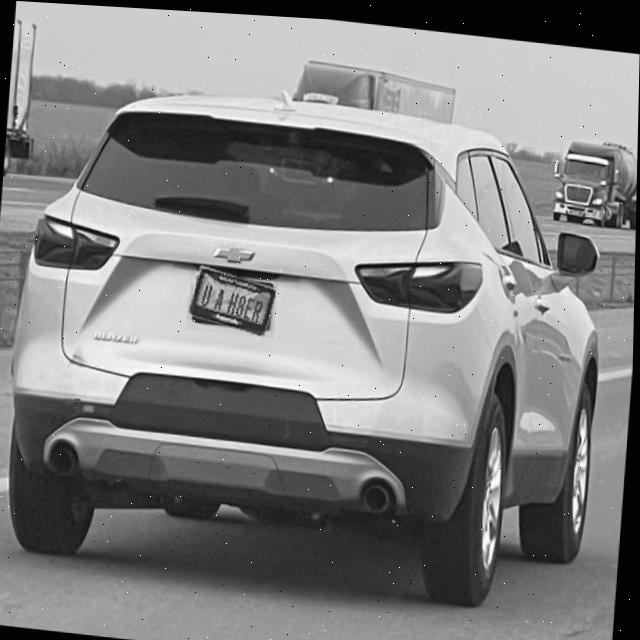LicensePlate: (190, 264, 279, 334)
